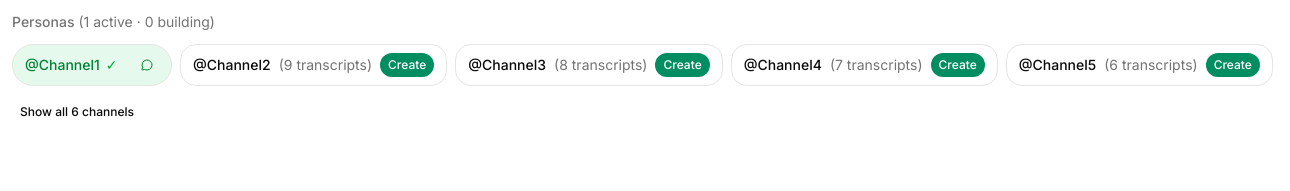
Scenario: PersonaStatus › expands to show all channels when toggle button is clicked
The width and height of the screenshot is (1290, 191).
Step 1. Click the button "Show all 6 channels" → [77, 112], box [12, 100, 142, 124]
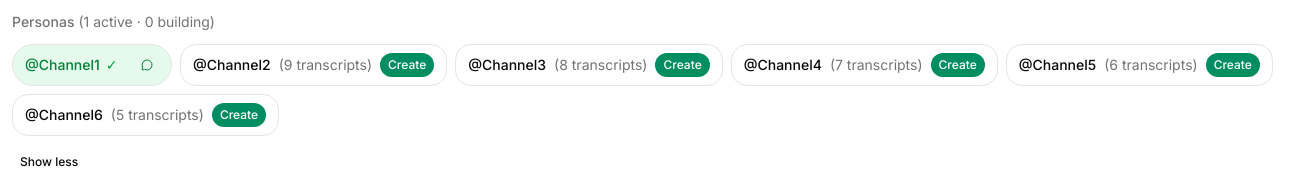
Check: the text "@Channel6" is shown, box [25, 105, 103, 125]
Check: the button "Show less" is shown, box [12, 150, 86, 174]
